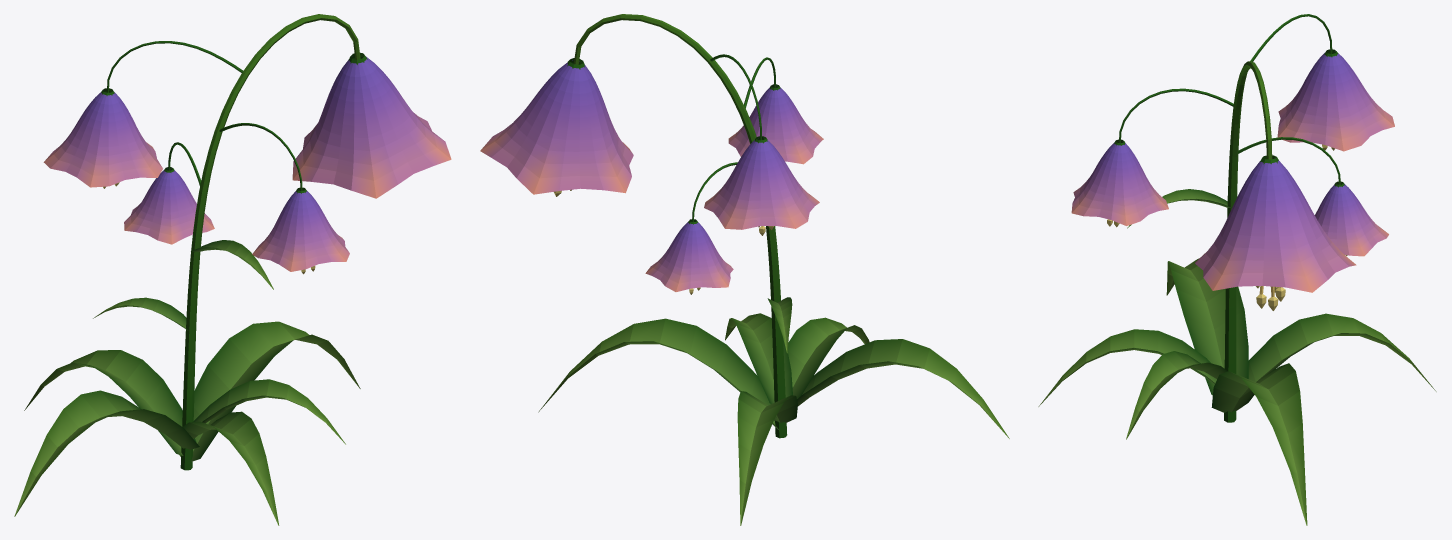
File: bellflower.glb
3 views of the same model, side by side, from view 1: azimuth 30°, elevation 25°; view 2: azimuth 150°, elevation 25°; view 3: azimuth 270°, elevation 25° (orthographic). The views are drawn at different scales.
Visible parts, largest first — view 1: bellflower; view 2: bellflower; view 3: bellflower.
Part boxes in pixels (<box>): bellflower: <box>14,14,451,525</box>; bellflower: <box>480,14,1009,525</box>; bellflower: <box>1038,14,1436,525</box>.
Size of the model in its own units: 4.04 by 3.37 by 2.91.
